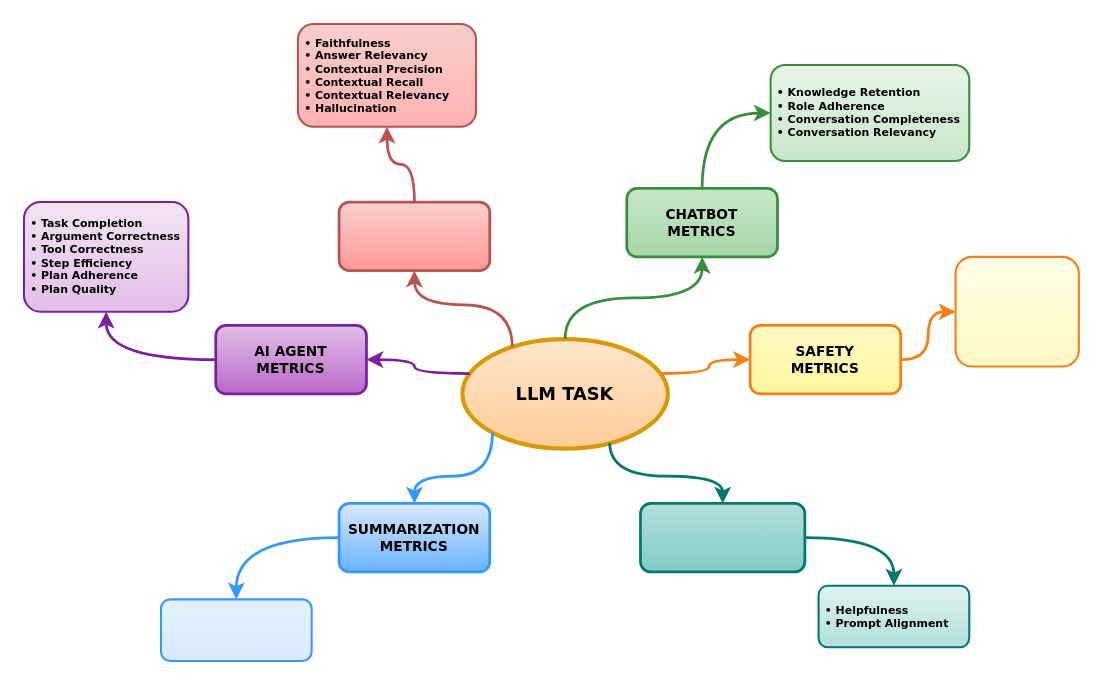
Image size: 1104x686. Some labels were removed from this diagram. Each missing label, with the box of its shape:
RAG METRICS: (337, 200, 490, 271)
USE CASE SPECIFIC METRICS: (638, 501, 806, 573)
• Bias • Toxicity • Non-Advice • Misuse • PII Leakage • Role Violation: (954, 255, 1079, 367)
• Coverage Score • Alignment Score: (159, 598, 312, 661)
